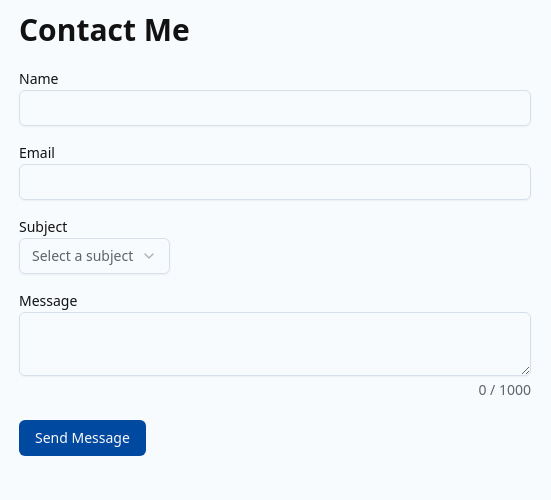
Scenario: Epic 1 Story 2 — Validation, Character Counter, and Error States › Subject field validation › shows error when no subject is selected on submit
This screenshot has width=551, height=500.
Note: Fill other valid fields but leave Subject empty
Type "Jane Smith" into the field labelled "Name" at (275, 108), box [19,90,531,126]
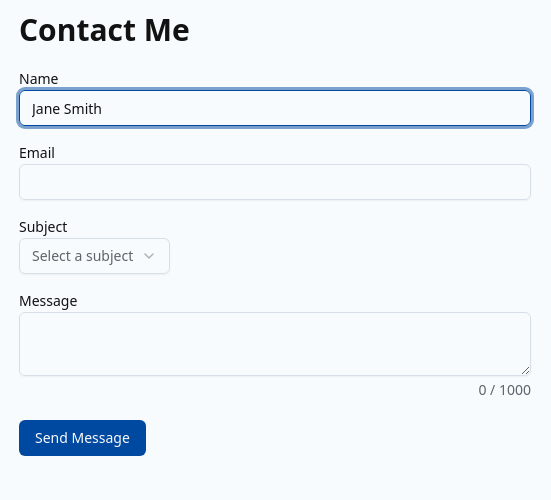
Type "jane@example.com" into the field labelled "Email" at (275, 182), box [19,164,531,200]
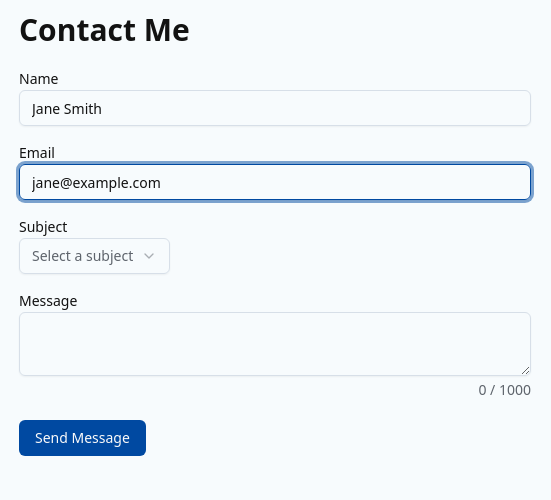
Type "A message with enough characters to pass." into the text box labelled "Message" at (275, 344), box [19,312,531,376]
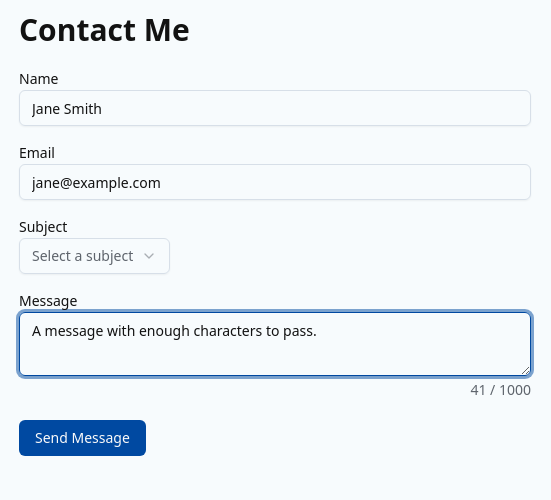
Click the button "Send Message" at (82, 438), box [19,420,146,456]
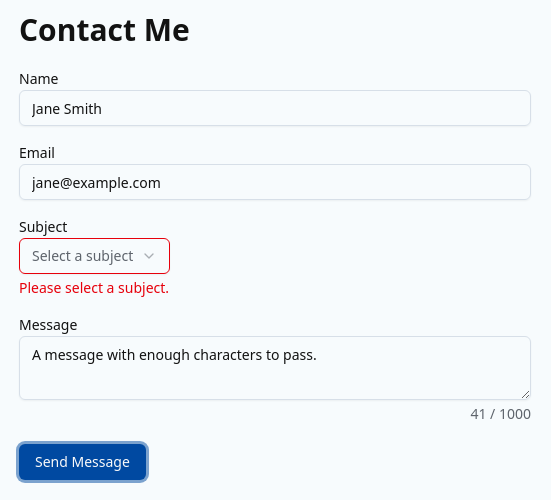
Result: the text "Please select a subject." is shown at [19,278,169,297]
